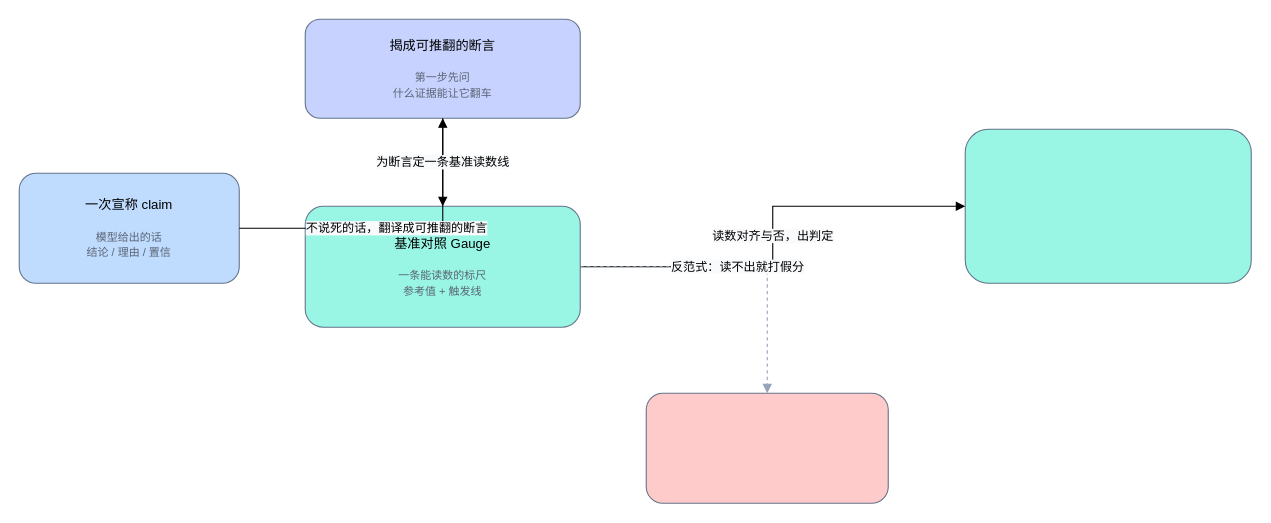
Image size: 1271x523. Some labels were removed from this diagram. Here are the shapes that lost their labels. From the top down, the centre of each, then its label:
point 1107,205: 判定：对齐 / 不对齐 读数对上证据就过 过不了就退回重取证
point 766,447: 假分陷阱 不设标尺就打高分 宣称越模糊分越虚
